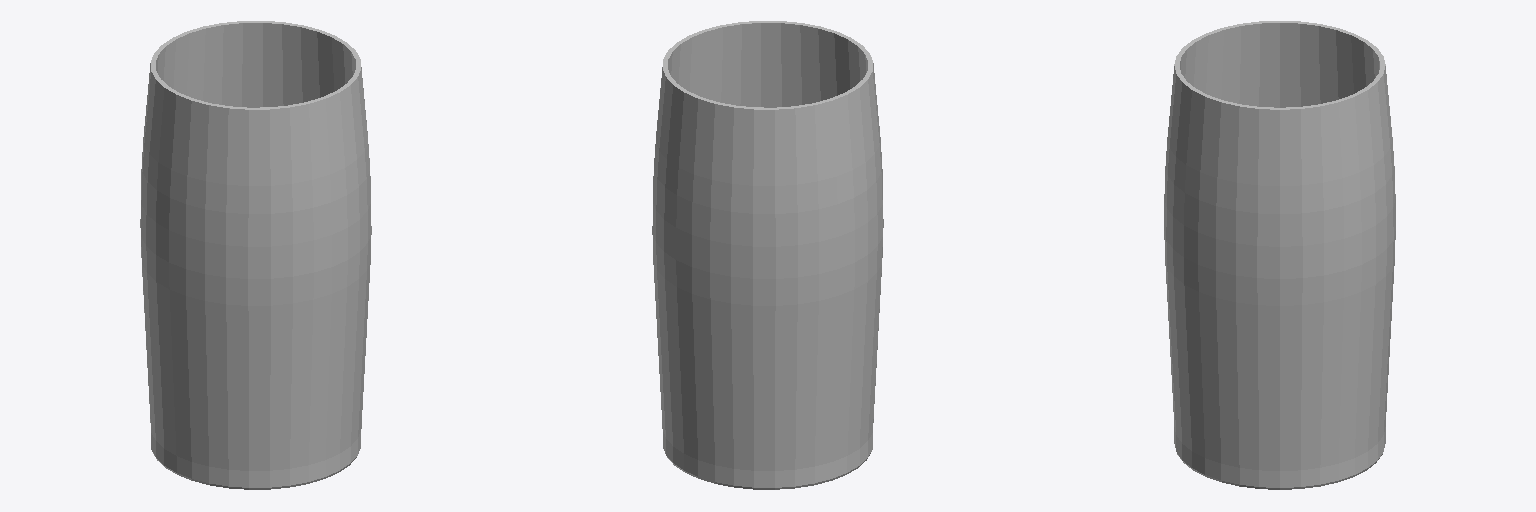
The model's file is Glass 1.obj.
The picture shows the model from 3 angles: view 1: azimuth 30°, elevation 25°; view 2: azimuth 150°, elevation 25°; view 3: azimuth 270°, elevation 25°; orthographic projection.
Visible parts, largest first — view 1: Cylinder_Cylinder.002; view 2: Cylinder_Cylinder.002; view 3: Cylinder_Cylinder.002.
Part boxes in pixels (x1,y1,x2,y2): Cylinder_Cylinder.002: (140, 21, 371, 489); Cylinder_Cylinder.002: (652, 21, 883, 489); Cylinder_Cylinder.002: (1164, 21, 1395, 489).
Size of the model in its own units: 0.086 by 0.1564 by 0.086.